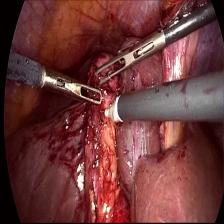Grasper: (93, 34, 156, 87), (62, 70, 104, 107)
Hook: (97, 92, 120, 127)
